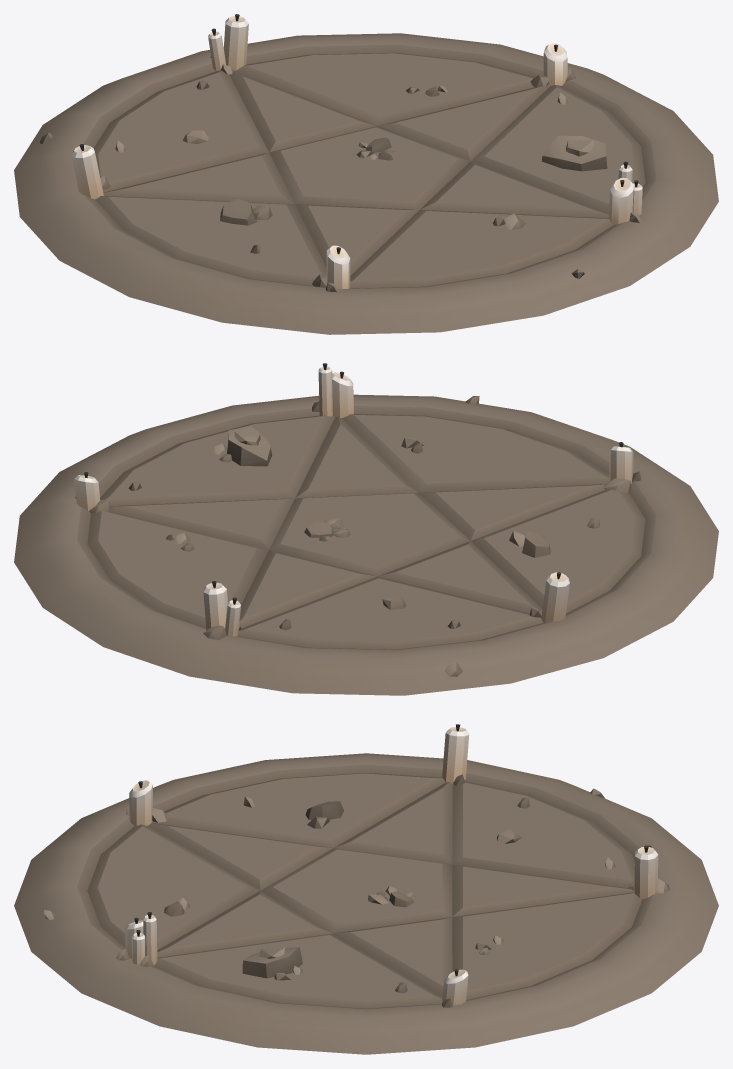
File: summoning_circle.glb
3 views of the same model, one above another, from view 1: azimuth 30°, elevation 25°; view 2: azimuth 150°, elevation 25°; view 3: azimuth 270°, elevation 25° (orthographic).
Visible parts, largest first — view 1: SummoningCircle; view 2: SummoningCircle; view 3: SummoningCircle.
Boxes of the visible parts, box(x1,y1,x2,y2) form: SummoningCircle: box(14, 14, 718, 334); SummoningCircle: box(14, 363, 718, 695); SummoningCircle: box(14, 724, 718, 1054).
Bounding box in the file's own units: 7.81 × 0.8138 × 7.81.
1 material, 1 textured.
